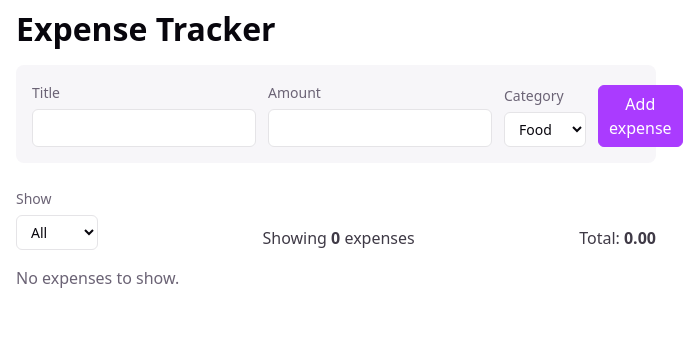
Scenario: Invalid input › does not add a row for an empty title
In the field with test id "amount": x=380, y=128 [268,109,492,147], type "250"
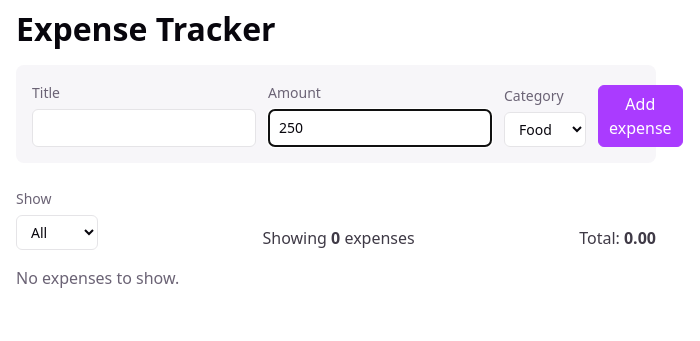
Select "Food" in the dropdown with test id "category": x=545, y=130 [504,112,586,147]
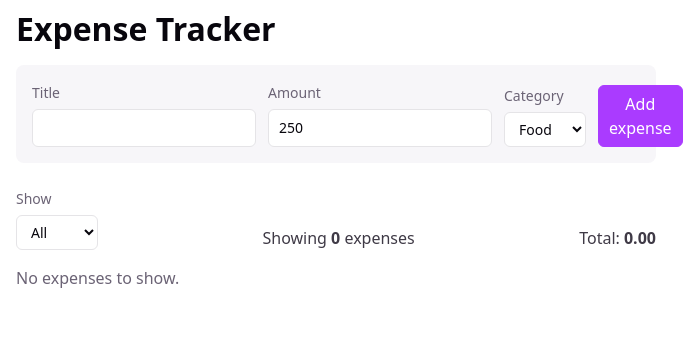
Click the button with test id "add-expense": x=641, y=116 [598,85,683,147]
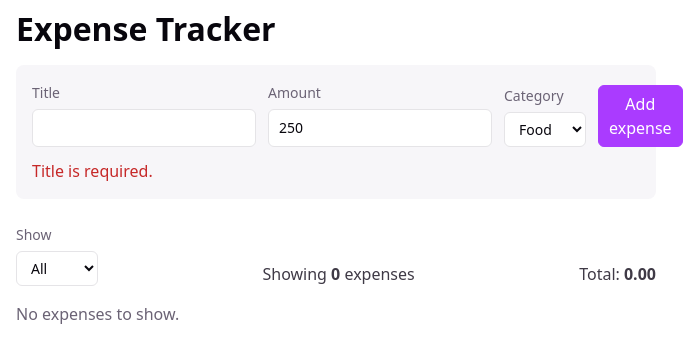
expect the text with test id "count" reads "0": met, box [331,263,340,285]
expect the message with test id "form-error" reads "Title is required.": met, box [32,160,153,182]
